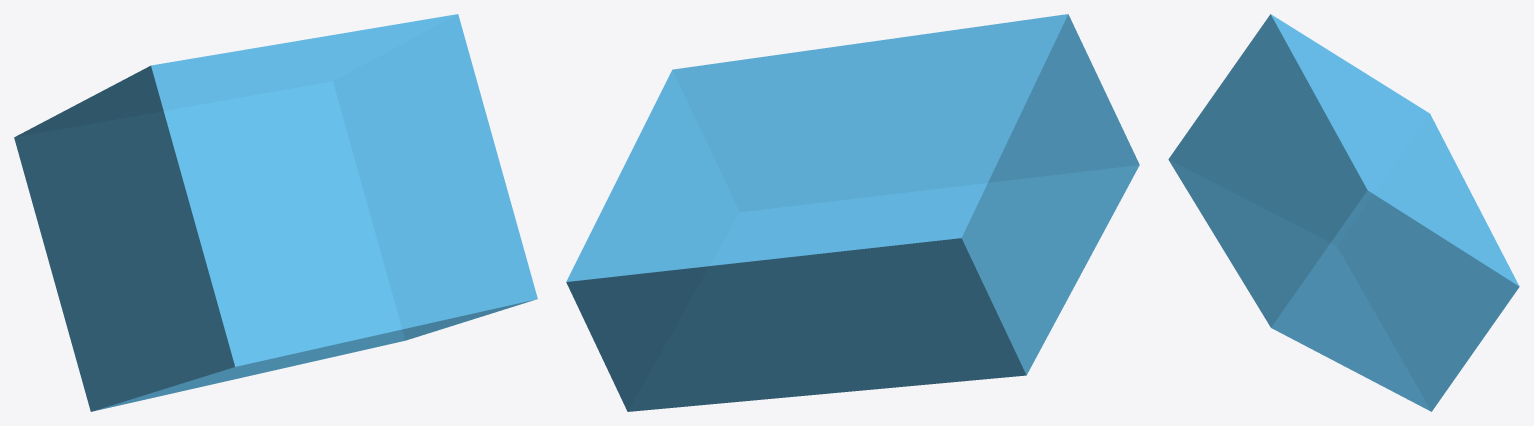
Rendered from Event_420094457_HErechit_4.fbx.
The picture shows the model from 3 angles, left to right: view 1: azimuth 30°, elevation 25°; view 2: azimuth 150°, elevation 25°; view 3: azimuth 270°, elevation 25°; orthographic projection. The views are drawn at different scales.
Visible parts, largest first — view 1: Model; view 2: Model; view 3: Model.
Part boxes in pixels (x1,y1,x2,y2): Model: [14, 14, 537, 411]; Model: [566, 14, 1139, 411]; Model: [1168, 14, 1519, 411].
Bounding box in the file's own units: 0.5926 × 0.6732 × 0.7567.
